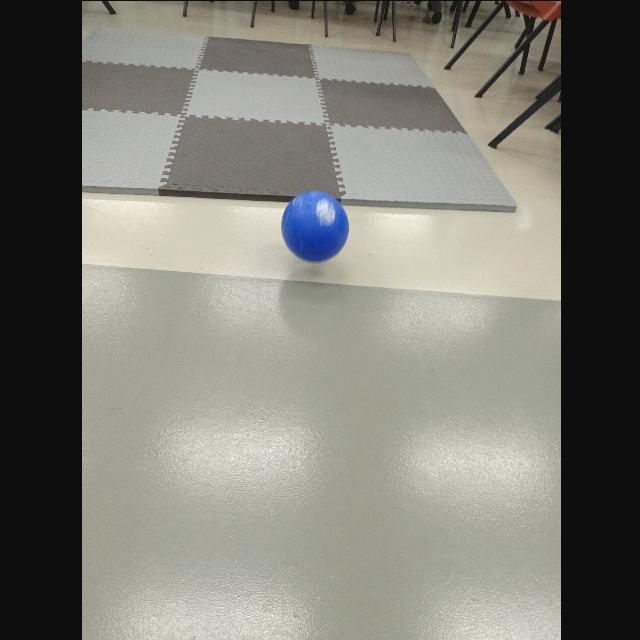B: (278, 186, 350, 262)
